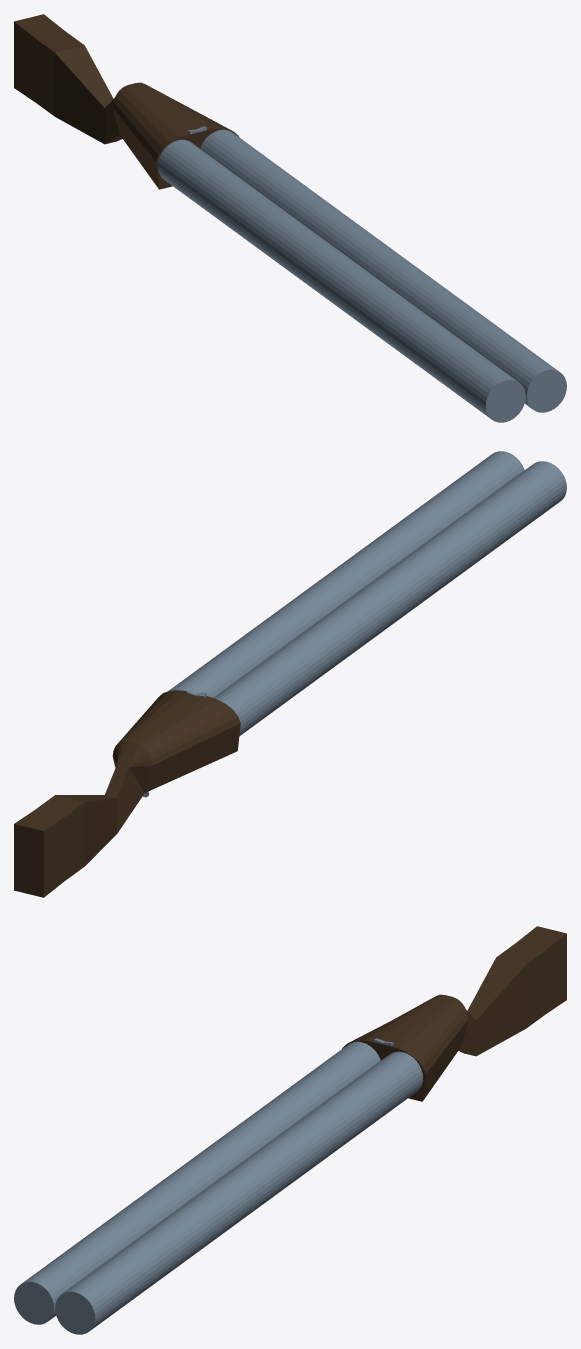
File: shot_Drobik.glb
3 views of the same model, one above another, from view 1: azimuth 30°, elevation 25°; view 2: azimuth 150°, elevation 25°; view 3: azimuth 330°, elevation 25° (orthographic).
Parts seen in each view (by area): view 1: dulo, priklad; view 2: dulo, priklad; view 3: dulo, priklad.
Boxes of the visible parts, x1,y1,x2,y2 form: dulo: [158, 129, 566, 422]; priklad: [14, 14, 239, 189]; dulo: [168, 451, 566, 736]; priklad: [14, 689, 240, 897]; dulo: [14, 1041, 422, 1334]; priklad: [342, 926, 566, 1101].
Bounding box in the file's own units: 0.2995 × 0.2646 × 3.01.
3 materials, 3 textured.
